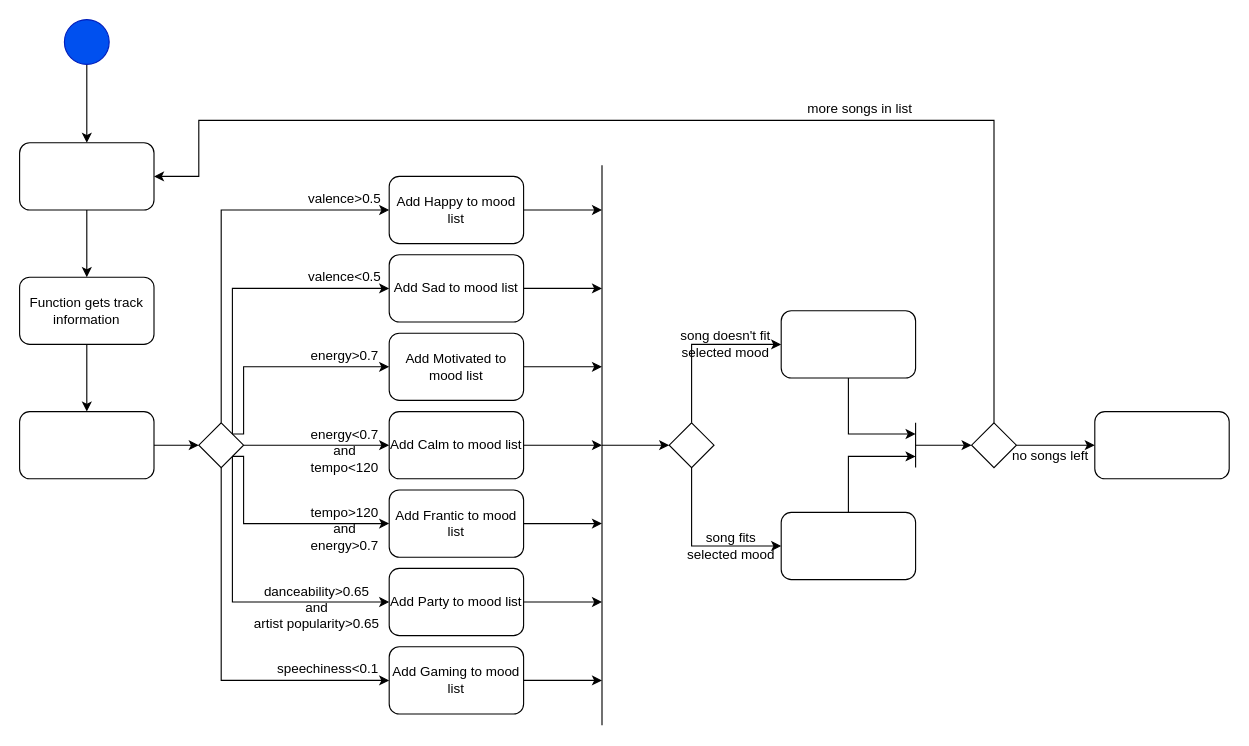
Image size: 1249x746. Some labels were removed from this diagram. The centre of each missing label's shape, as x and y in pixels:
"Function mood matching" goes at point 86,444.
"Song URI is pulled" goes at point 86,176.
